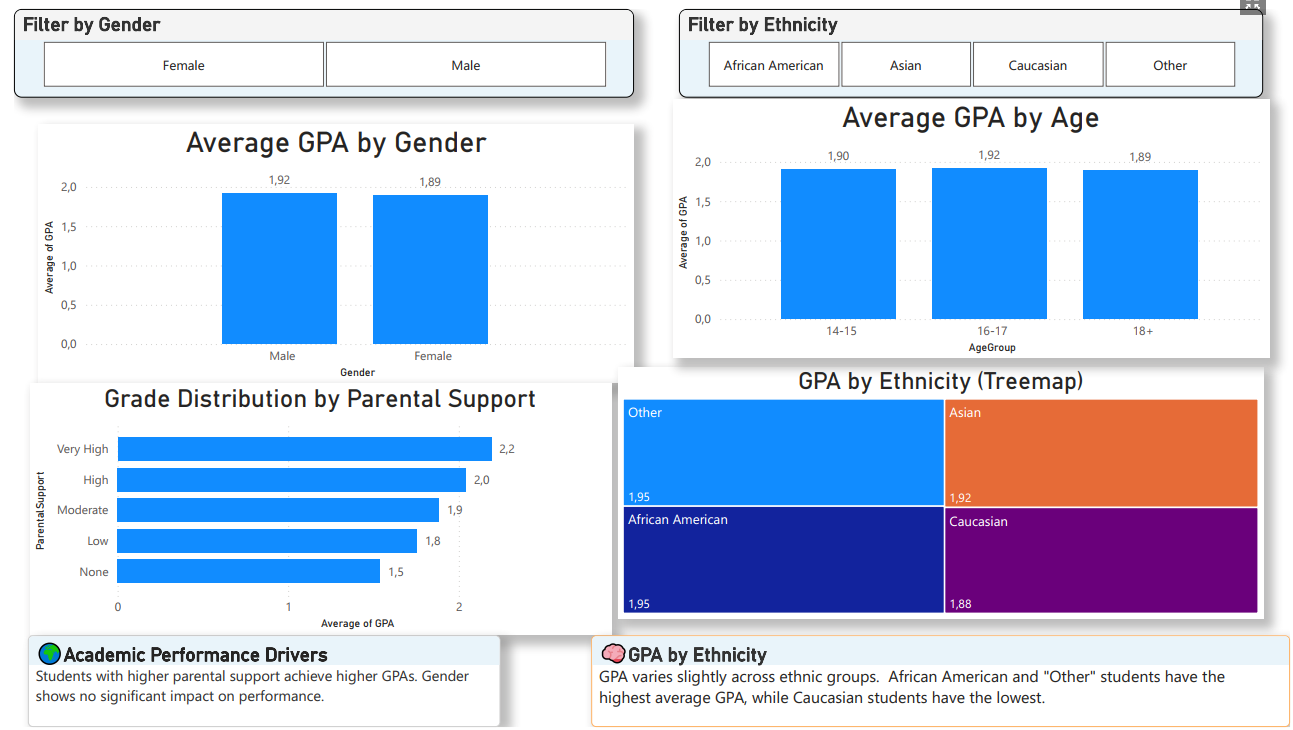

The dashboard page shown, as its layout file describes it:
{"tool":"powerbi","page":{"name":"Demographic Insights","canvas":[1280,720],"ordinal":1},"visuals":[{"type":"columnChart","title":"Average GPA by Gender","fields":{"Category":["Edu_data.Gender"],"Y":["Avg(Edu_data.GPA)"]},"box":[14,101,574,259],"z":0},{"type":"clusteredBarChart","title":"Grade Distribution by Parental Support","fields":{"Category":["Edu_data.ParentalSupport"],"Y":["Avg(Edu_data.GPA)"]},"box":[16.1,375.4,582.8,252.1],"z":1000},{"type":"treemap","title":"GPA by Ethnicity (Treemap)","fields":{"Group":["Edu_data.Ethnicity"],"Values":["Avg(Edu_data.GPA)"]},"box":[631,375,622,236],"z":2000},{"type":"slicer","title":"Filter by Gender","fields":{"Values":["Edu_data.Gender"]},"box":[0,0,588,89],"z":3000},{"type":"slicer","title":"Filter by Ethnicity","fields":{"Values":["Edu_data.Ethnicity"]},"box":[631,0,622,89],"z":4000},{"type":"textbox","title":"🌍Academic Performance Drivers","box":[14,628,585,92],"z":5000},{"type":"textbox","title":"🧠GPA by Ethnicity","box":[631,628,649,92],"z":6000},{"type":"clusteredColumnChart","title":"Average GPA by Age","fields":{"Y":["Avg(Edu_data.GPA)"],"Category":["Edu_data.AgeGroup"]},"box":[631,101,598,259],"z":7000}]}

Visuals, with their boxes in screenshot pixels (x1, y1, x2, y2), scaled from the page's 1280x720 canvas onto the 1293x730 screenshot:
"Average GPA by Gender" columnChart: [14, 102, 594, 365]
"Grade Distribution by Parental Support" clusteredBarChart: [16, 381, 605, 636]
"GPA by Ethnicity (Treemap)" treemap: [637, 380, 1266, 619]
"Filter by Gender" slicer: [0, 0, 594, 90]
"Filter by Ethnicity" slicer: [637, 0, 1266, 90]
"🌍Academic Performance Drivers" textbox: [14, 637, 605, 729]
"🧠GPA by Ethnicity" textbox: [637, 637, 1292, 729]
"Average GPA by Age" clusteredColumnChart: [637, 102, 1241, 365]
